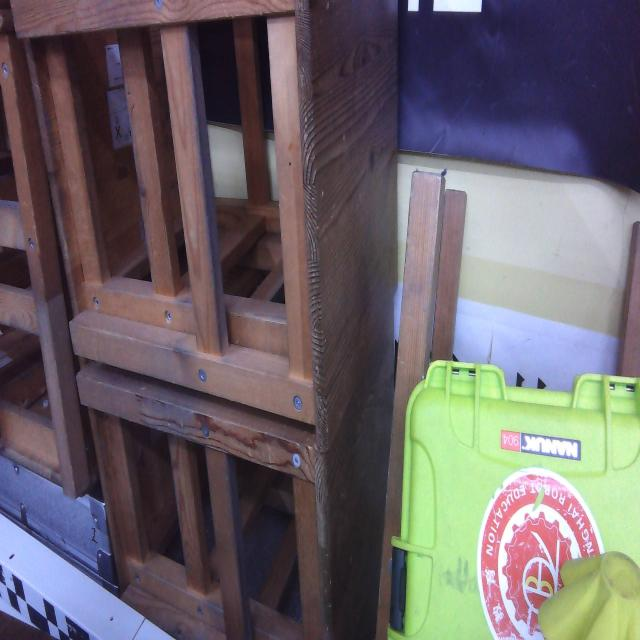Yellow-Stake-Head: (537, 551, 640, 640)
